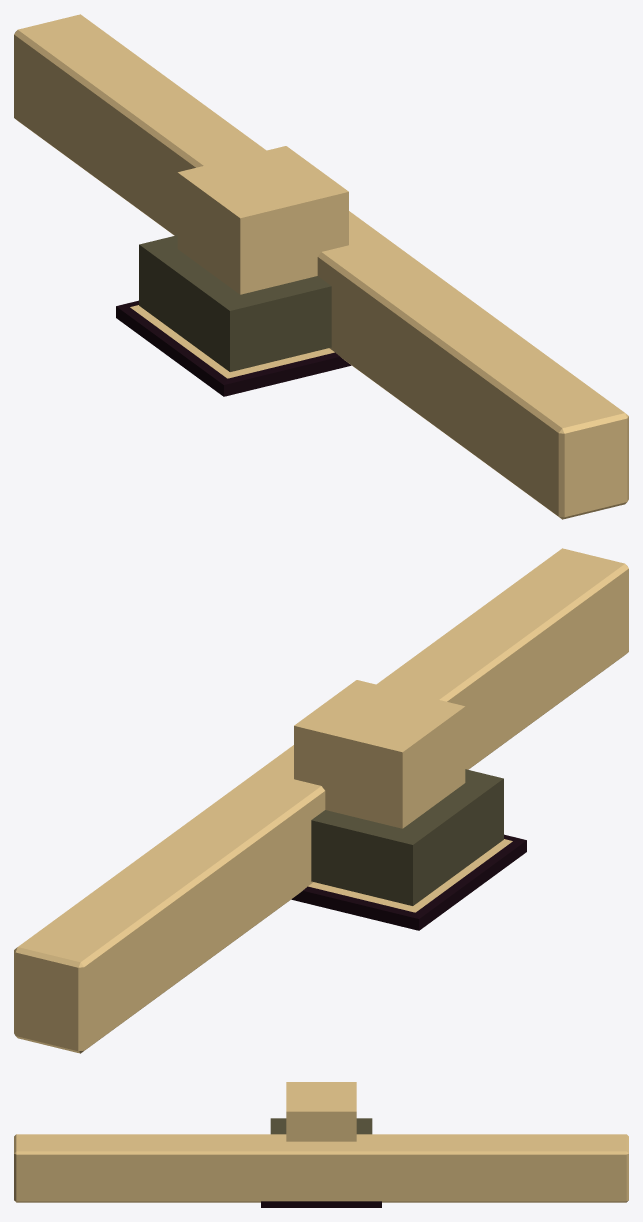
The model's file is pusher.glb.
The picture shows the model from 3 angles, top to bottom: view 1: azimuth 30°, elevation 25°; view 2: azimuth 150°, elevation 25°; view 3: azimuth 270°, elevation 25°; orthographic projection. The views are drawn at different scales.
Parts seen in each view (by area): view 1: boundary, blocker, pusher, square; view 2: boundary, blocker, pusher, square; view 3: boundary, blocker, square, pusher.
Boxes of the visible parts, x1=… form: boundary: x1=14, y1=14, x2=628, y2=519; blocker: x1=177, y1=146, x2=348, y2=294; pusher: x1=139, y1=235, x2=331, y2=371; square: x1=116, y1=300, x2=351, y2=396; boundary: x1=14, y1=548, x2=628, y2=1053; blocker: x1=294, y1=680, x2=465, y2=828; pusher: x1=311, y1=769, x2=503, y2=905; square: x1=291, y1=834, x2=526, y2=930; boundary: x1=14, y1=1134, x2=628, y2=1202; blocker: x1=286, y1=1082, x2=356, y2=1141; square: x1=261, y1=1201, x2=381, y2=1207; pusher: x1=270, y1=1118, x2=372, y2=1134.
Bounding box in the file's own units: 2 × 1.56 × 10.18.
